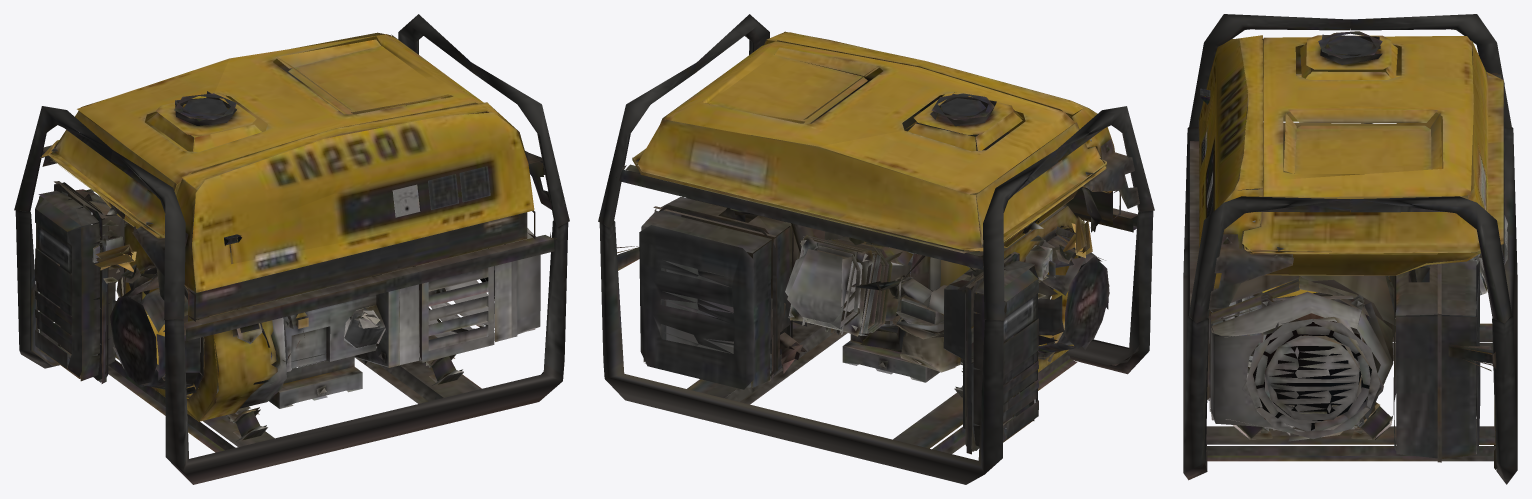
Rendered from ph_portable_generator.glb.
3 renders of one model, left to right at view 1: azimuth 30°, elevation 25°; view 2: azimuth 150°, elevation 25°; view 3: azimuth 270°, elevation 25°, orthographic. The views are drawn at different scales.
Parts seen in each view (by area): view 1: portable_generator; view 2: portable_generator; view 3: portable_generator.
Part boxes in pixels (<box>): portable_generator: <box>14,14,569,484</box>; portable_generator: <box>598,14,1154,484</box>; portable_generator: <box>1183,14,1517,484</box>.
Bounding box in the file's own units: 0.8217 × 0.577 × 0.5657.
Materials: 2 (2 with a texture image).
